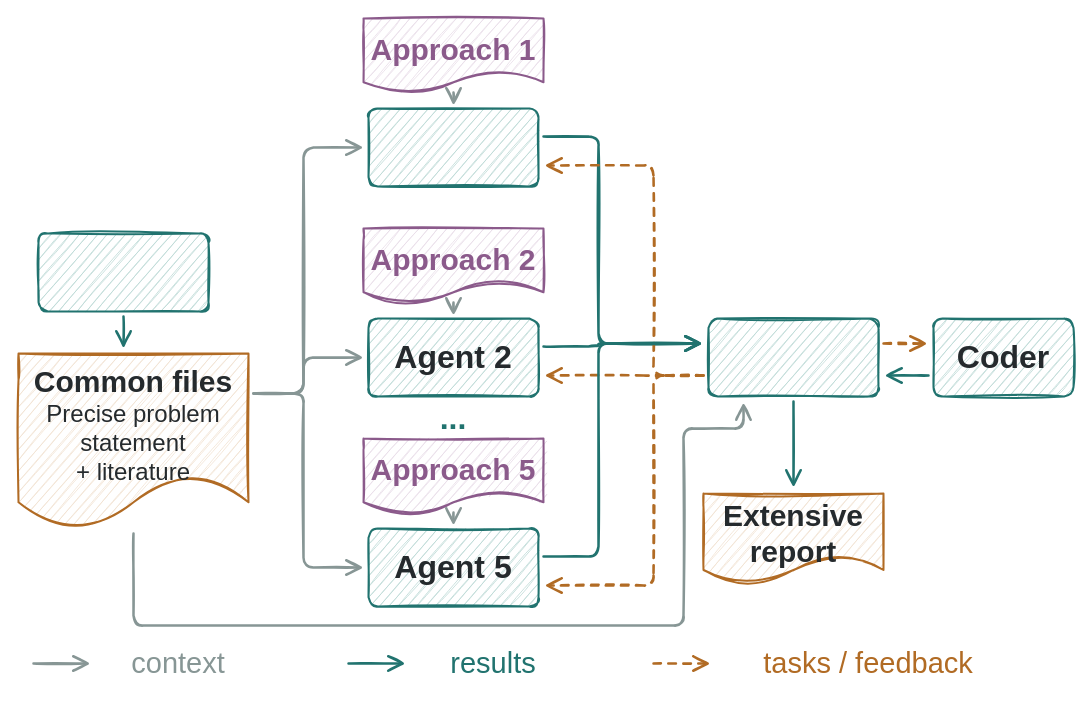
The diagram is 1091 pixels wide and 701 high, and some of its shapes have lost their labels. Each missing label, with the centre of its shape:
Agent 1: the point at 453,147
Critical reviewer: the point at 793,357
Literature agent: the point at 123,272
